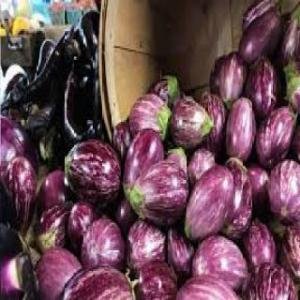eggplant: (184, 163, 236, 235), (66, 138, 122, 202), (133, 158, 189, 220), (192, 234, 248, 288), (62, 260, 136, 298), (3, 157, 36, 235), (257, 105, 297, 165), (240, 7, 282, 61), (82, 215, 124, 266), (173, 96, 211, 148), (247, 51, 279, 112), (128, 91, 170, 137), (226, 98, 256, 158), (219, 50, 247, 104)
